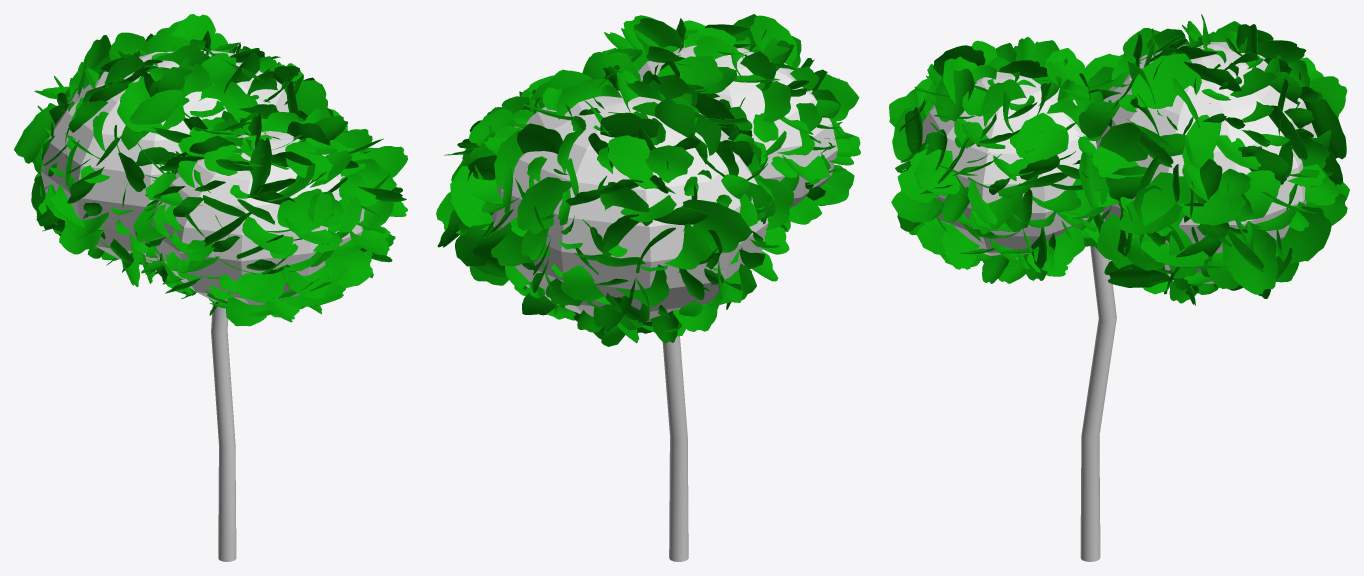
File: Plantinmiddle.fbx
3 renders of one model, left to right at view 1: azimuth 30°, elevation 25°; view 2: azimuth 150°, elevation 25°; view 3: azimuth 270°, elevation 25°, orthographic. The views are drawn at different scales.
Visible parts, largest first — view 1: Sphere.001, Sphere, Cylinder, Sphere|Plane.007|Dupli|109, Sphere.001|Plane.001|Dupli|97, Sphere|Plane.007|Dupli|52, Sphere.001|Plane.001|Dupli|31, Sphere|Plane.007|Dupli|160, Sphere.001|Plane.001|Dupli|193, Sphere|Plane.007|Dupli|141, Sphere|Plane.007|Dupli|55, Sphere|Plane.007|Dupli|85 (+37 smaller); view 2: Sphere.001, Sphere, Cylinder, Sphere.001|Plane.001|Dupli|31, Sphere.001|Plane.001|Dupli|215, Sphere.001|Plane.001|Dupli|111, Sphere.001|Plane.001|Dupli|334, Sphere|Plane.007|Dupli|123, Sphere.001|Plane.001|Dupli|77, Sphere.001|Plane.001|Dupli|141, Sphere.001|Plane.001|Dupli|54, Sphere.001|Plane.001|Dupli|105 (+38 smaller); view 3: Sphere.001, Sphere, Cylinder, Sphere.001|Plane.001|Dupli|229, Sphere.001|Plane.001|Dupli|364, Sphere|Plane.007|Dupli|229, Sphere.001|Plane.001|Dupli|300, Sphere.001|Plane.001|Dupli|344, Sphere|Plane.007|Dupli|211, Sphere.001|Plane.001|Dupli|356, Sphere.001|Plane.001|Dupli|283, Sphere.001|Plane.001|Dupli|215 (+40 smaller).
Boxes of the visible parts, x1,y1,x2,y2 form: Sphere.001: [40, 50, 288, 262]; Sphere: [151, 131, 364, 305]; Cylinder: [211, 305, 236, 561]; Sphere|Plane.007|Dupli|109: [277, 188, 332, 234]; Sphere.001|Plane.001|Dupli|97: [129, 89, 189, 136]; Sphere|Plane.007|Dupli|52: [237, 265, 288, 302]; Sphere.001|Plane.001|Dupli|31: [14, 104, 56, 163]; Sphere|Plane.007|Dupli|160: [325, 249, 372, 288]; Sphere.001|Plane.001|Dupli|193: [198, 81, 257, 118]; Sphere|Plane.007|Dupli|141: [285, 141, 332, 180]; Sphere|Plane.007|Dupli|55: [242, 217, 293, 253]; Sphere|Plane.007|Dupli|85: [249, 137, 272, 194]; Sphere.001: [491, 90, 768, 321]; Sphere: [638, 44, 837, 207]; Cylinder: [662, 336, 688, 561]; Sphere.001|Plane.001|Dupli|31: [681, 199, 752, 252]; Sphere.001|Plane.001|Dupli|215: [517, 177, 571, 233]; Sphere.001|Plane.001|Dupli|111: [607, 135, 657, 189]; Sphere.001|Plane.001|Dupli|334: [450, 166, 492, 230]; Sphere|Plane.007|Dupli|123: [657, 56, 723, 91]; Sphere.001|Plane.001|Dupli|77: [646, 145, 693, 182]; Sphere.001|Plane.001|Dupli|141: [600, 112, 658, 137]; Sphere.001|Plane.001|Dupli|54: [664, 223, 712, 269]; Sphere.001|Plane.001|Dupli|105: [655, 98, 696, 137]; Sphere.001: [1096, 42, 1317, 283]; Sphere: [922, 72, 1096, 259]; Cylinder: [1080, 246, 1116, 561]; Sphere.001|Plane.001|Dupli|229: [1131, 53, 1201, 108]; Sphere.001|Plane.001|Dupli|364: [1222, 223, 1277, 294]; Sphere|Plane.007|Dupli|229: [1015, 112, 1068, 163]; Sphere.001|Plane.001|Dupli|300: [1276, 206, 1331, 263]; Sphere.001|Plane.001|Dupli|344: [1141, 172, 1196, 236]; Sphere|Plane.007|Dupli|211: [915, 149, 961, 194]; Sphere.001|Plane.001|Dupli|356: [1180, 184, 1245, 225]; Sphere.001|Plane.001|Dupli|283: [1099, 122, 1150, 162]; Sphere.001|Plane.001|Dupli|215: [1304, 99, 1346, 159].
Bounding box in the file's own units: 778 × 618 × 967.
